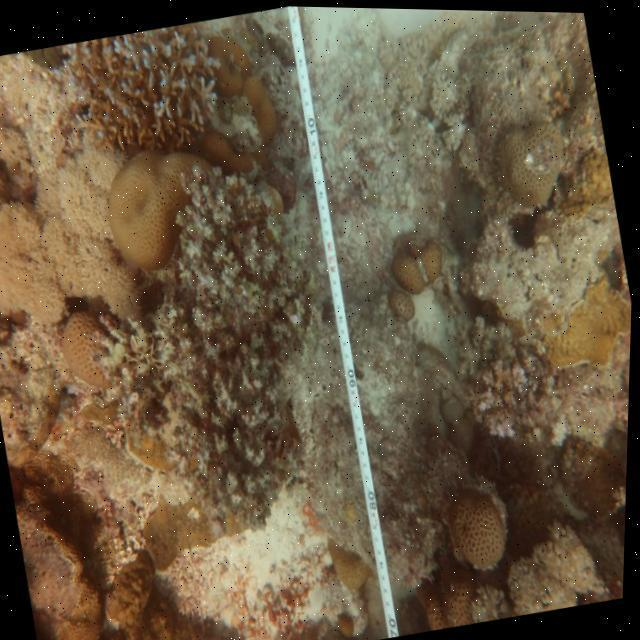Healthy Coral: (0, 0, 220, 421), (416, 469, 518, 634)
